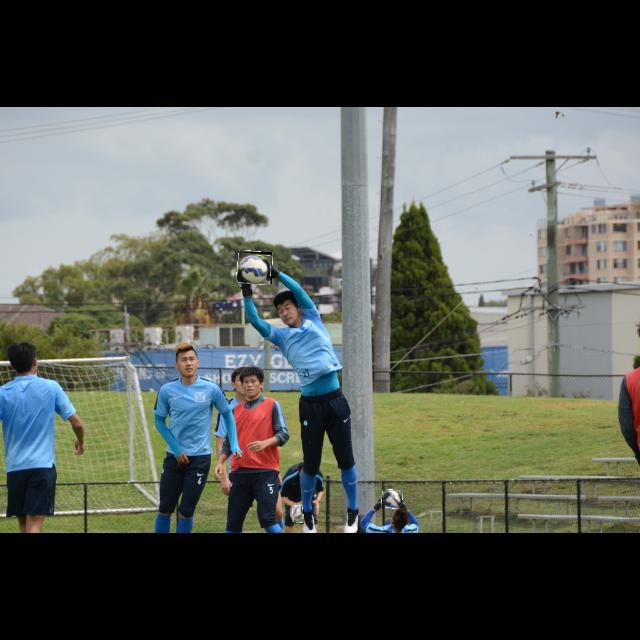Football: (238, 252, 272, 284), (382, 490, 402, 508), (292, 506, 304, 524)
